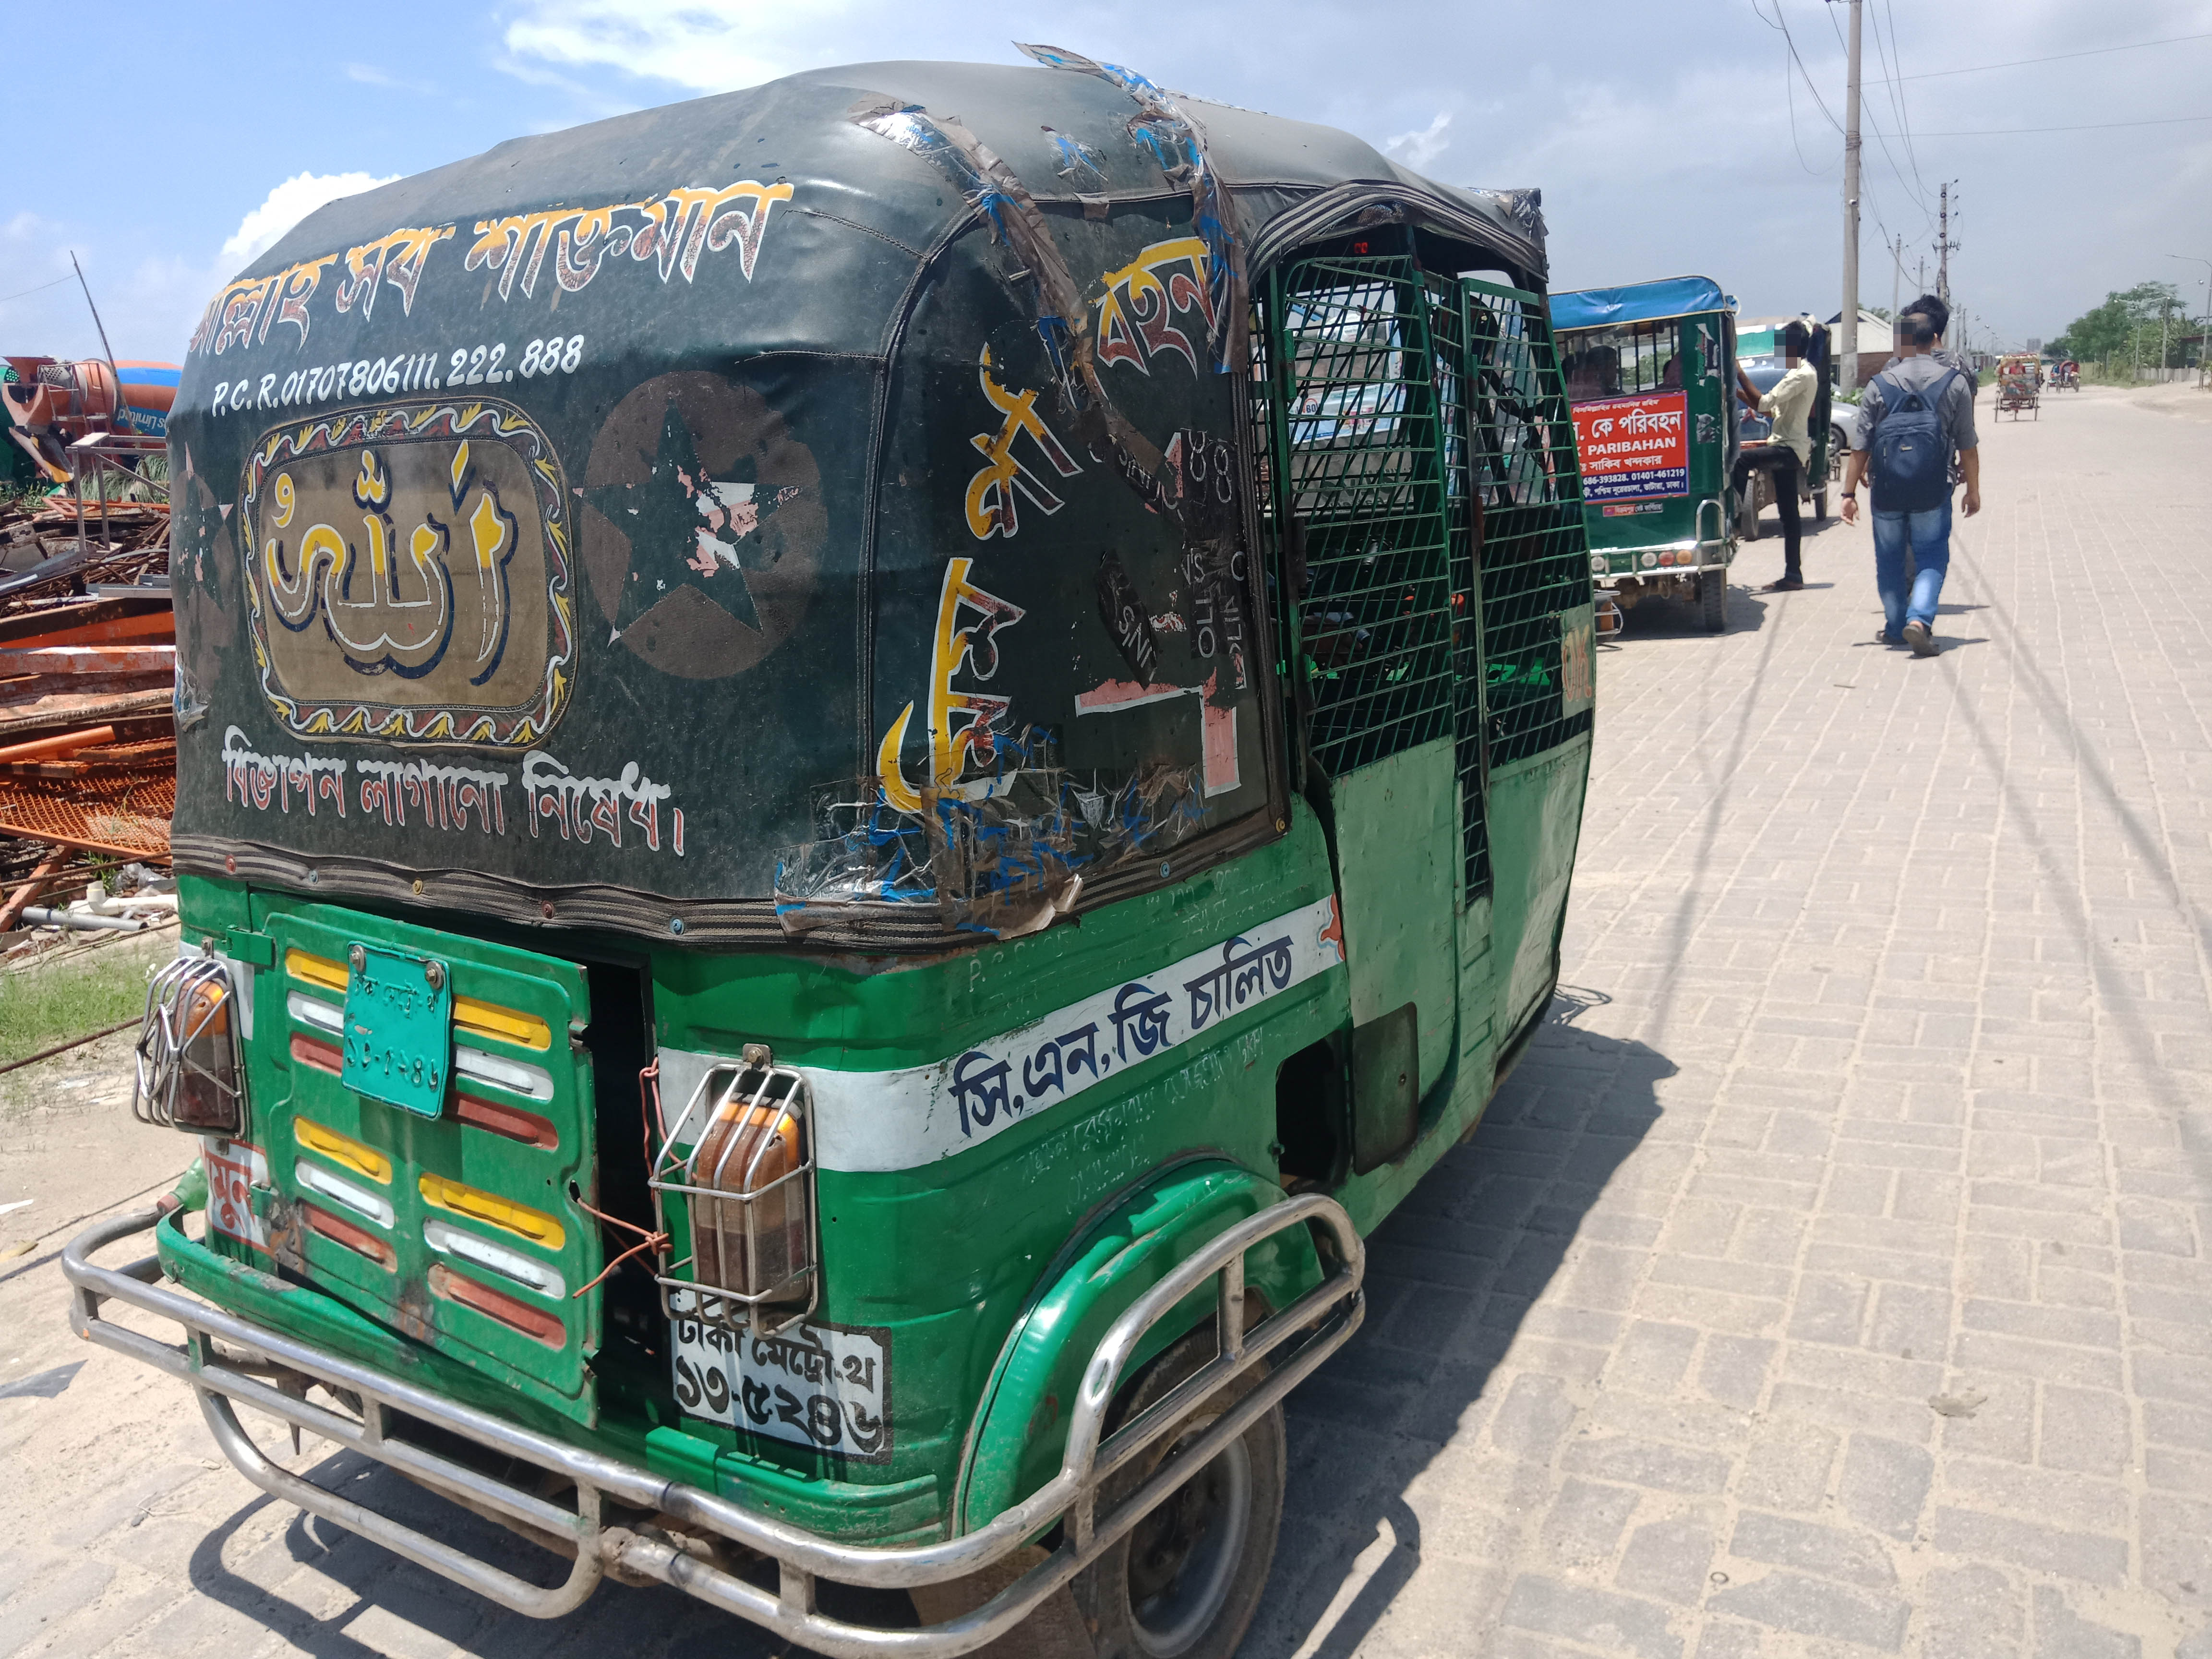cng: (30, 37, 1634, 1659)
easybike: (1550, 254, 1764, 640)
rickshaw: (1986, 338, 2054, 439)
